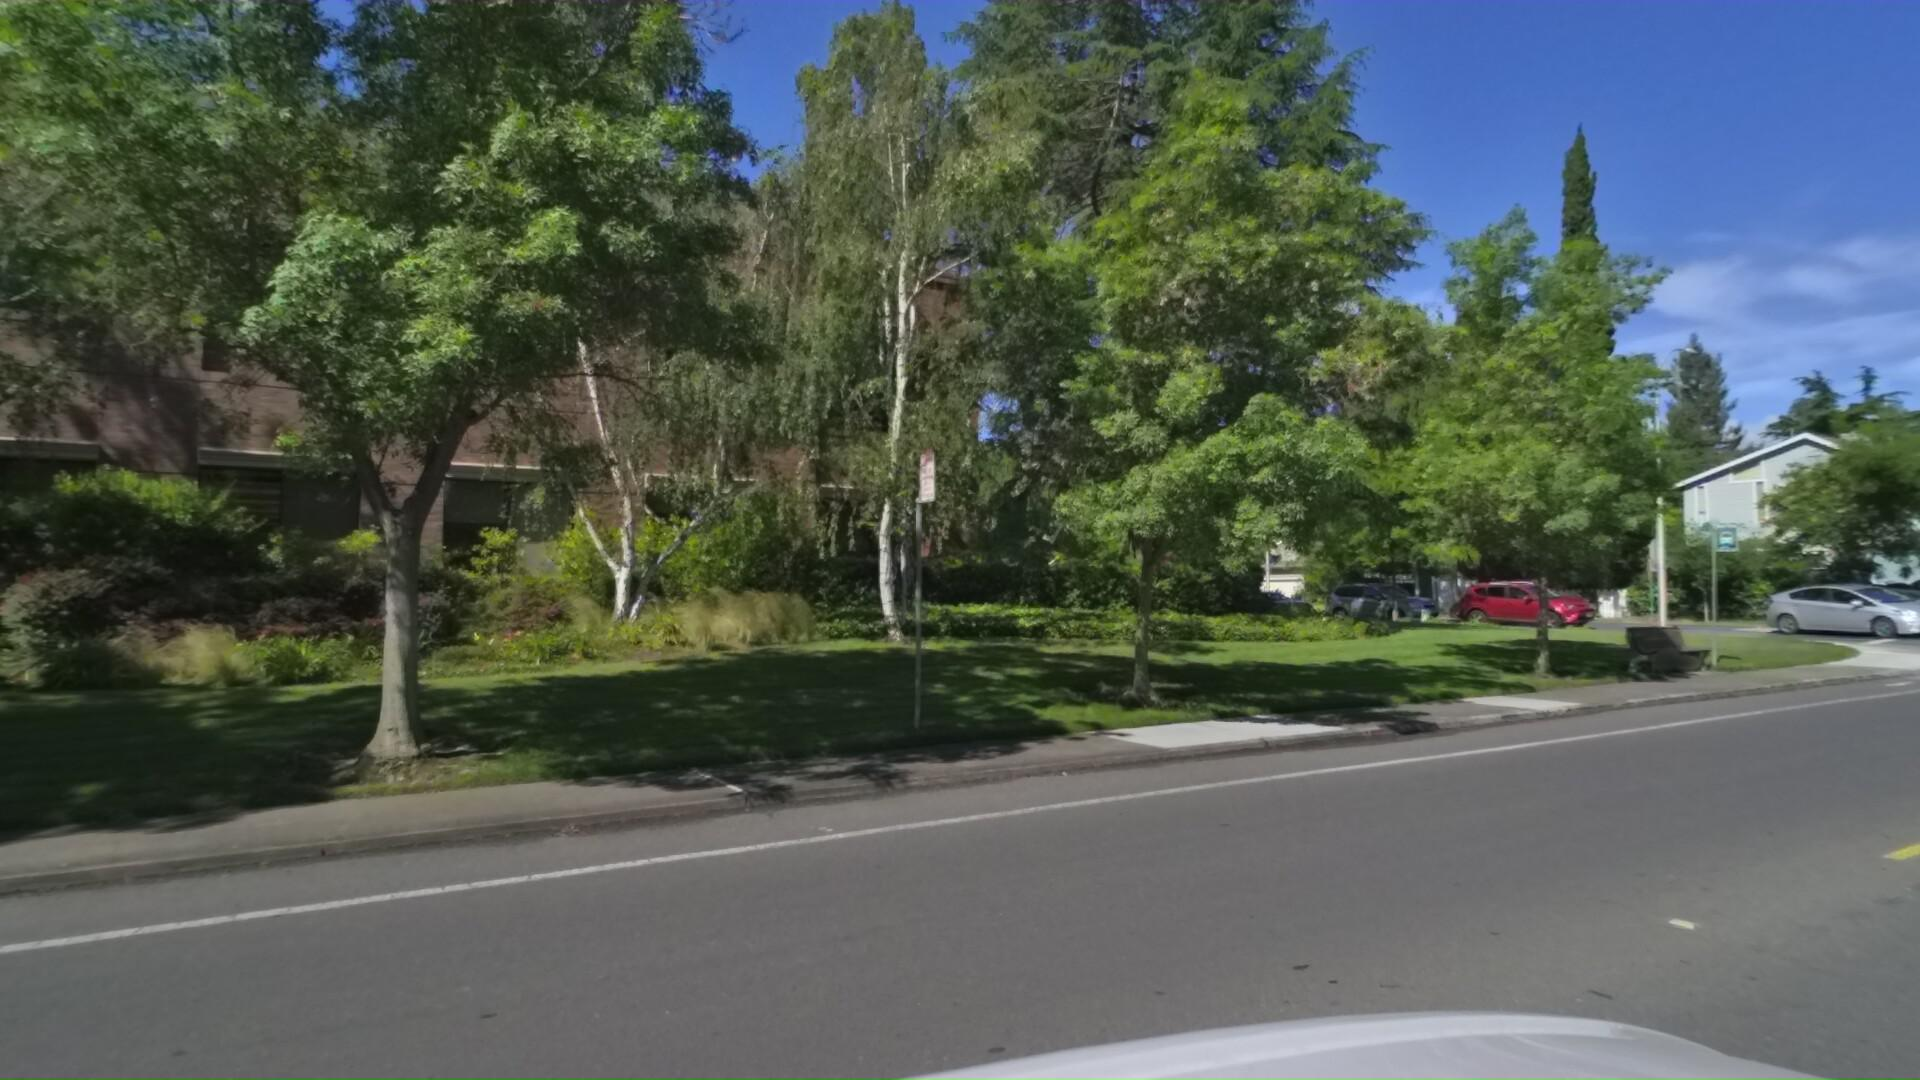car: (1753, 580, 1920, 640), (1447, 578, 1606, 629), (1779, 587, 1920, 638), (1313, 580, 1447, 622)
